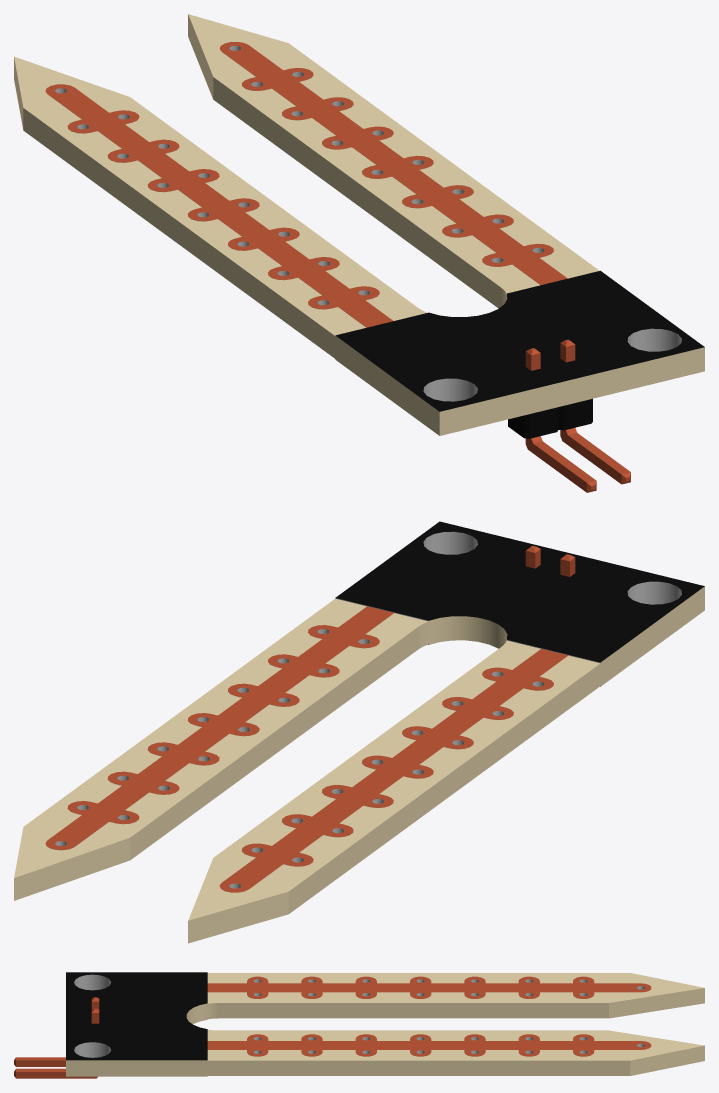
File: Soil-Moisture-Sensor-Probe.obj
3 views of the same model, one above another, from view 1: azimuth 30°, elevation 25°; view 2: azimuth 150°, elevation 25°; view 3: azimuth 270°, elevation 25° (orthographic). The views are drawn at different scales.
Visible parts, largest first — view 1: Solid1; view 2: Solid1; view 3: Solid1.
Part boxes in pixels (<box>): Solid1: <box>14,14,704,492</box>; Solid1: <box>14,521,704,943</box>; Solid1: <box>14,972,704,1078</box>.
Size of the model in its own units: 19.5 by 7 by 64.88.
